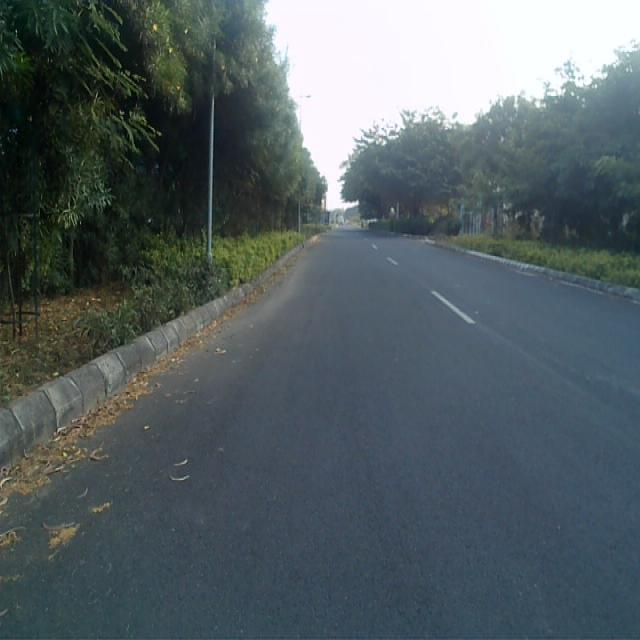lane: (0, 231, 640, 640)
